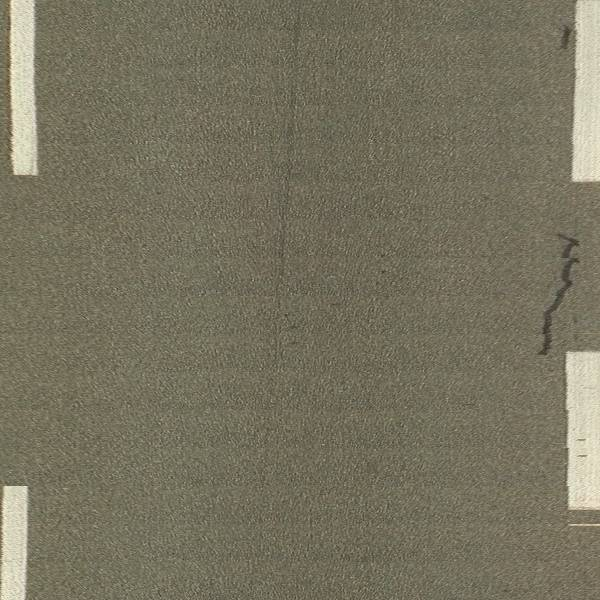road_damage: (533, 230, 582, 349)
